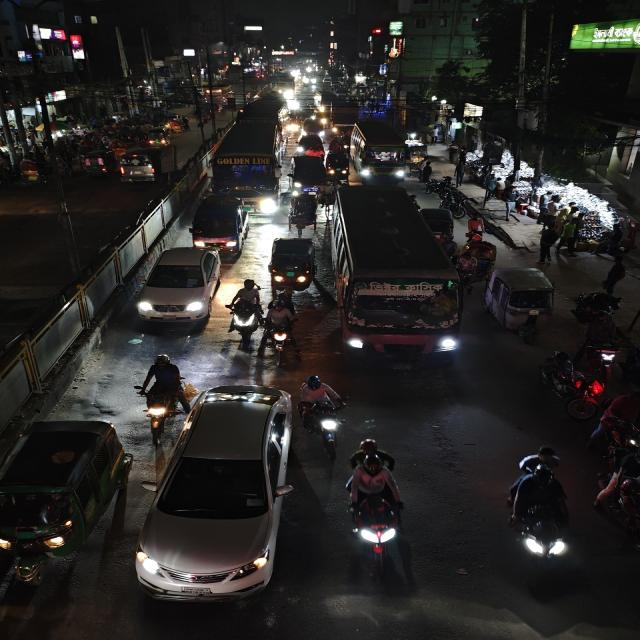bus: (330, 184, 461, 372), (207, 117, 289, 214), (347, 118, 411, 185)
car: (144, 383, 298, 614), (136, 244, 227, 326), (116, 146, 170, 184), (290, 154, 328, 196), (294, 133, 326, 157)
cng: (0, 417, 132, 555), (484, 266, 560, 332), (268, 234, 317, 296), (327, 148, 351, 184), (145, 127, 171, 147)
motorcycle: (341, 436, 412, 579), (502, 444, 572, 584), (536, 351, 608, 421), (137, 351, 190, 442), (301, 372, 345, 452), (578, 309, 630, 371), (262, 292, 298, 360), (226, 277, 263, 341)
pedestrian: (592, 217, 629, 260), (533, 224, 563, 264), (599, 256, 630, 294), (558, 212, 584, 254)
rickshaw: (597, 442, 640, 559), (286, 192, 317, 236), (14, 156, 53, 186), (77, 148, 114, 177)
